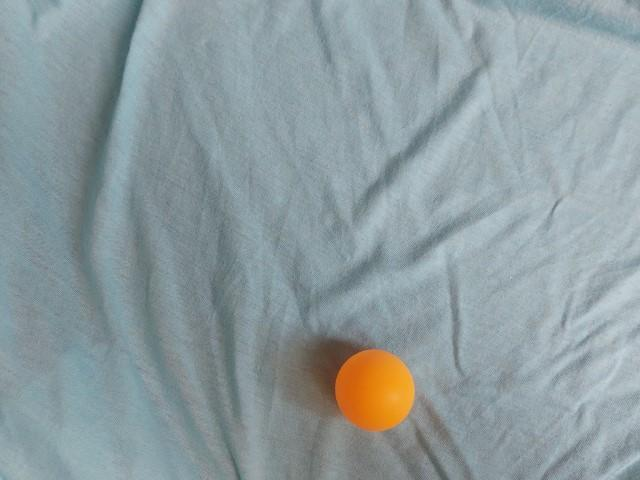oball: (216, 41, 316, 138)
